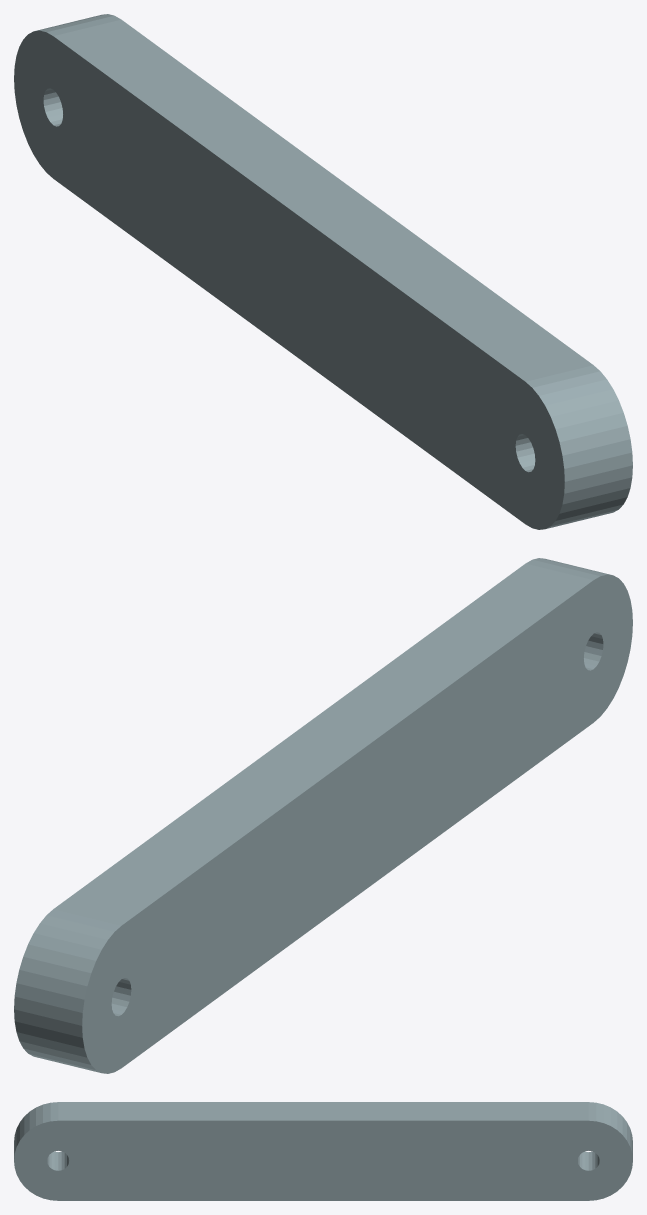
Rendered from Bein - Ledd 2 v2.obj.
3 renders of one model, top to bottom at view 1: azimuth 30°, elevation 25°; view 2: azimuth 150°, elevation 25°; view 3: azimuth 270°, elevation 25°, orthographic. The views are drawn at different scales.
Visible parts, largest first — view 1: Bein___Ledd_2_v2; view 2: Bein___Ledd_2_v2; view 3: Bein___Ledd_2_v2.
Boxes of the visible parts, x1,y1,x2,y2 form: Bein___Ledd_2_v2: (14,14,632,529); Bein___Ledd_2_v2: (14,558,632,1073); Bein___Ledd_2_v2: (14,1102,632,1200).
Bounding box in the file's own units: 20 × 40 × 280.
